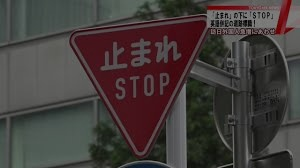Regulatory_sign_triangle: (68, 11, 216, 153)
